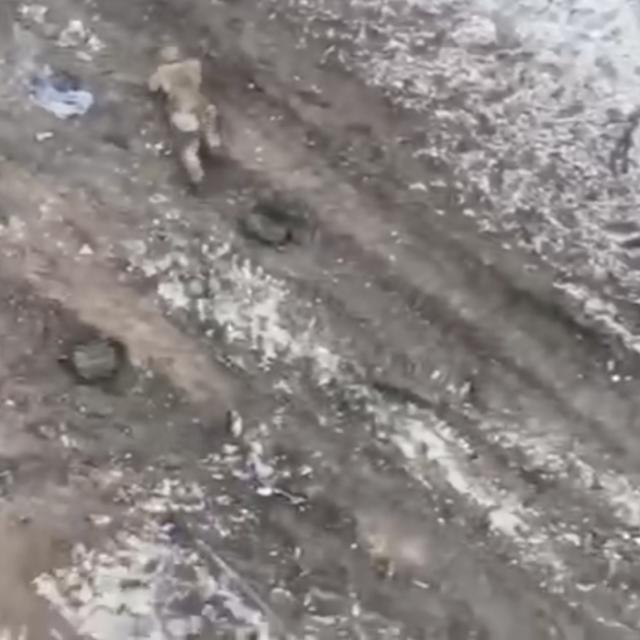infantry: (147, 44, 230, 188)
